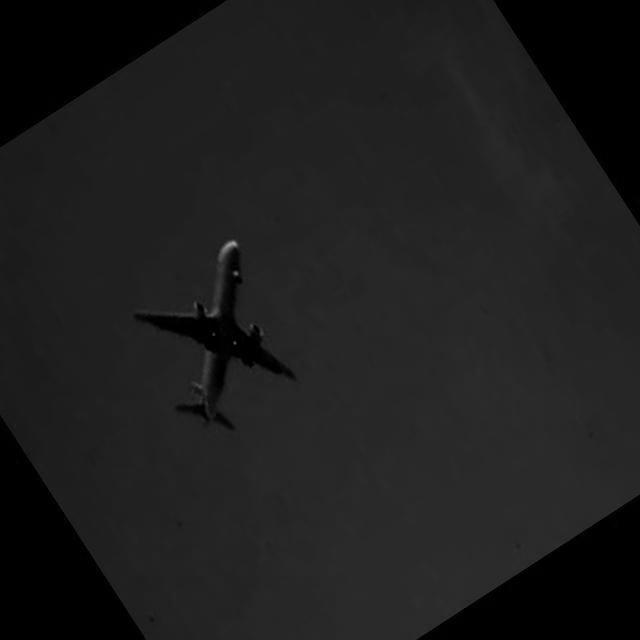aeroplane: (112, 230, 325, 450)
